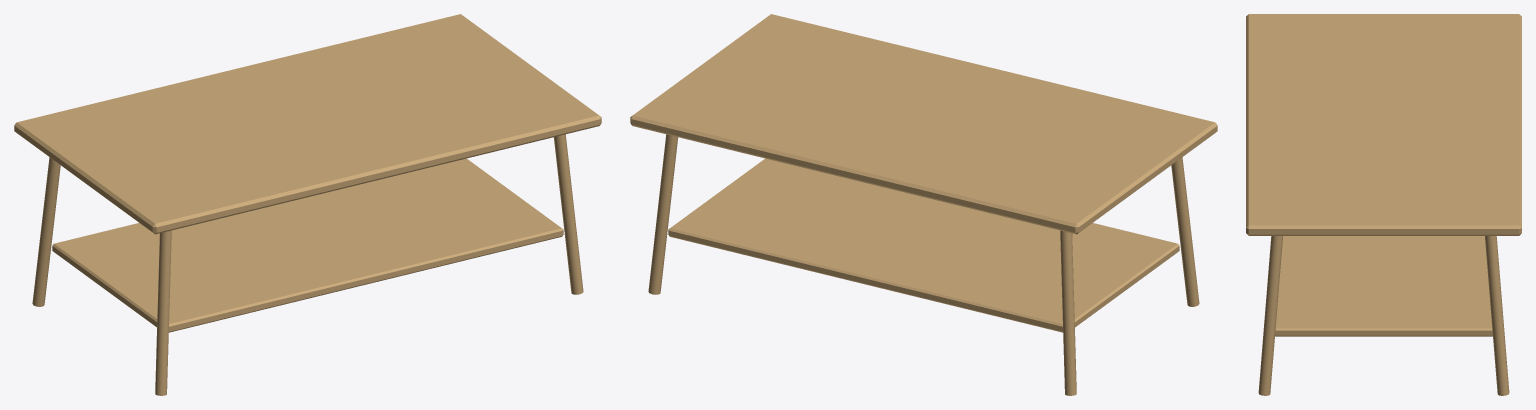
The model's file is i_table_8.glb.
3 renders of one model, left to right at view 1: azimuth 30°, elevation 25°; view 2: azimuth 150°, elevation 25°; view 3: azimuth 270°, elevation 25°, orthographic. The views are drawn at different scales.
Visible parts, largest first — view 1: o, o.005, o.001, o.003, o.002; view 2: o, o.005, o.002, o.004, o.001; view 3: o, o.005, o.003, o.004.
Part boxes in pixels (x1,y1,x2,y2): o: (14,14,601,234); o.005: (52,158,563,332); o.001: (155,230,171,395); o.003: (554,134,583,294); o.002: (32,157,60,306); o: (630,14,1217,234); o.005: (668,158,1179,332); o.002: (1060,230,1076,395); o.004: (648,134,677,294); o.001: (1171,157,1199,306); o: (1246,14,1521,235); o.005: (1275,236,1492,336); o.003: (1258,236,1282,395); o.004: (1485,236,1509,395).
Bounding box in the file's own units: 1.1 × 0.4213 × 0.6.
